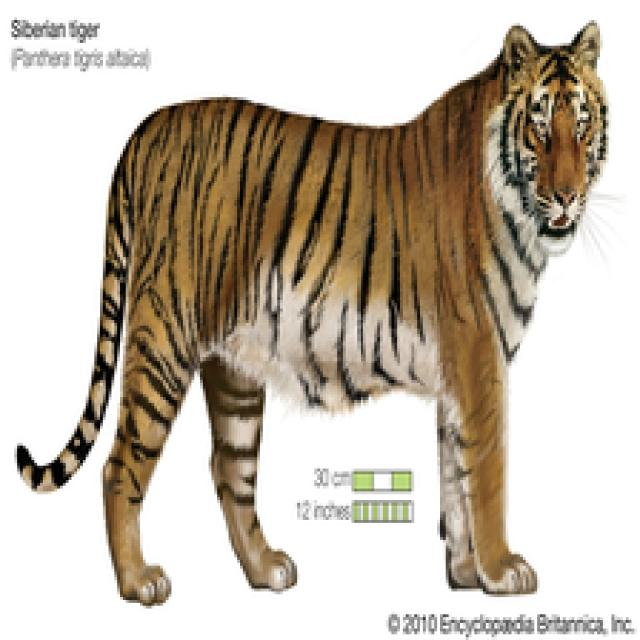tiger: (47, 10, 640, 599)
